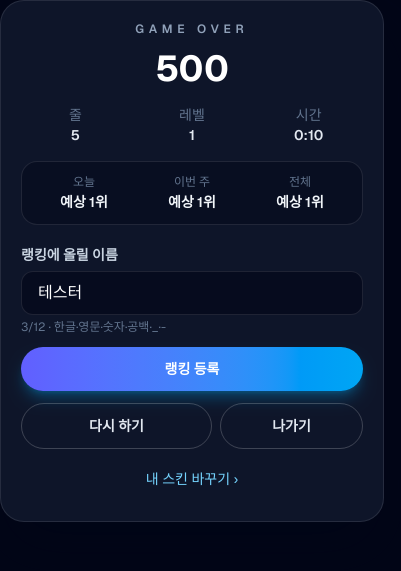
it: GameOverPanel 예상 순위 요청 › 등록 성공: 서버 순위·다시보기·랭킹 강조 링크(테트리스 경로), 내 기록·이름 저장
Click the button "랭킹 등록" at (192, 369), box [21,347,363,391]
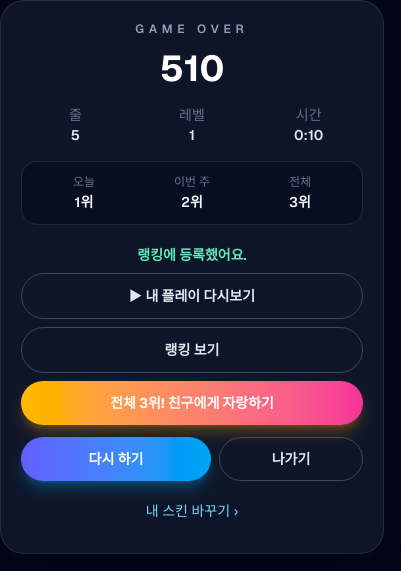
Now the text "510" is shown, box [160,45,224,92]
Now the button with test id "result-share" reads "전체 3위! 친구에게 자랑하기", box [21,381,363,425]
